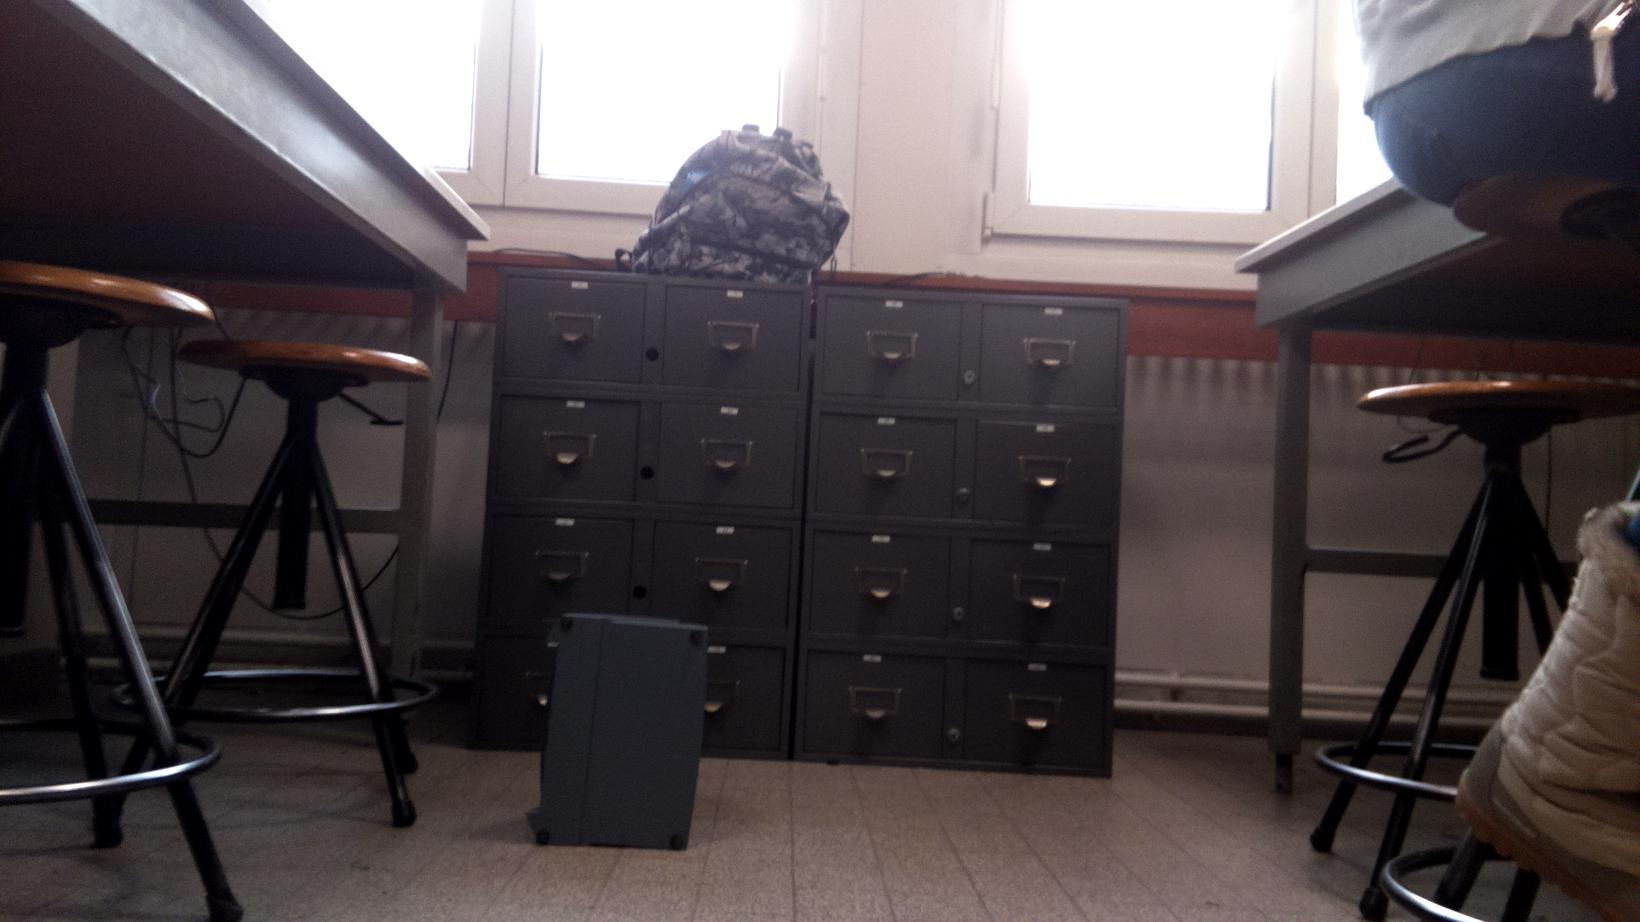big: (638, 125, 837, 281)
medium: (543, 607, 705, 848)
